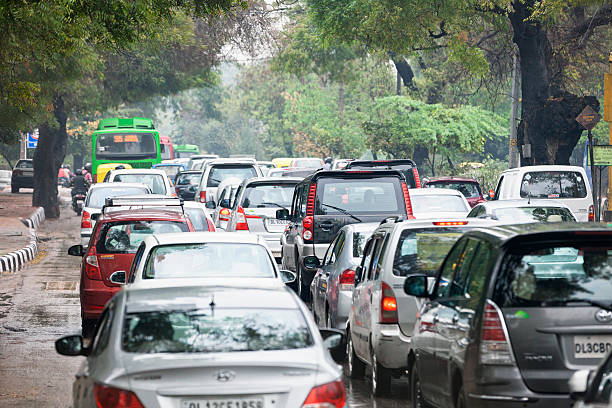bus: (92, 120, 158, 186)
car: (411, 233, 612, 408), (79, 291, 346, 408), (356, 224, 474, 383), (129, 233, 286, 322), (286, 174, 409, 279), (80, 215, 185, 313), (312, 221, 379, 345), (498, 167, 592, 227), (235, 180, 303, 255), (80, 182, 151, 244), (196, 159, 254, 221), (414, 185, 477, 235), (110, 169, 170, 206), (11, 160, 38, 191), (177, 172, 200, 201)
